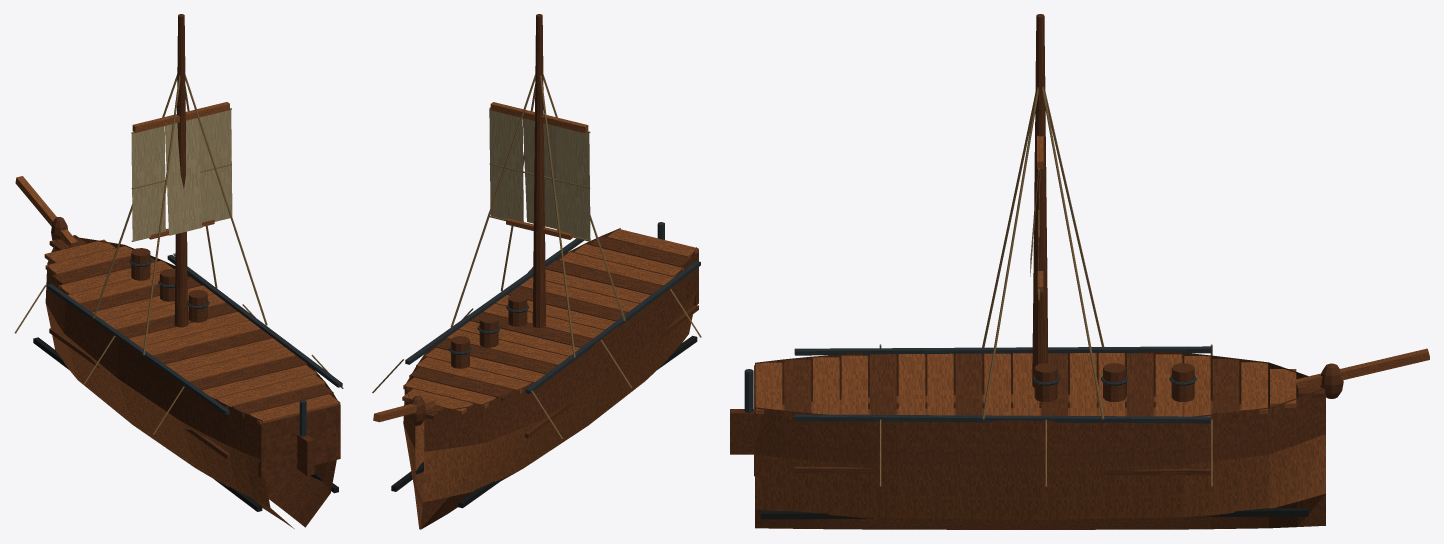
File: KIT_ship_moran_fishing_boat.gltf
3 renders of one model, left to right at view 1: azimuth 30°, elevation 25°; view 2: azimuth 150°, elevation 25°; view 3: azimuth 270°, elevation 25°, orthographic. The views are drawn at different scales.
Visible parts, largest first — view 1: hull, sail_01, rudder; view 2: hull, sail_01; view 3: hull, rudder.
Part boxes in pixels (left/top/right/bottom): hull: left=14, top=14, right=343, bottom=528; sail_01: left=131, top=108, right=232, bottom=241; rudder: left=297, top=400, right=314, bottom=476; hull: left=372, top=14, right=701, bottom=529; sail_01: left=489, top=107, right=590, bottom=241; hull: left=754, top=14, right=1429, bottom=529; rudder: left=730, top=369, right=753, bottom=454.
Bounding box in the file's own units: 3.87 × 8.27 × 10.29.
Materials: 6 (6 with a texture image).
